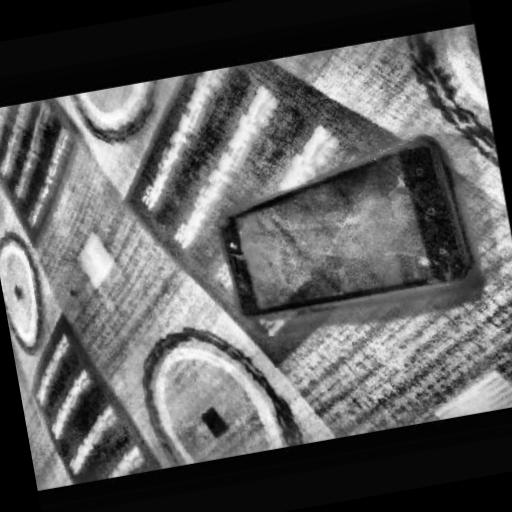phone: (215, 132, 476, 320)
